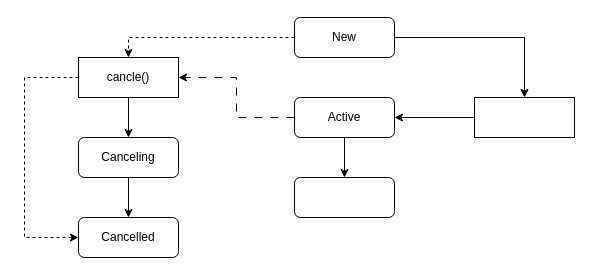
Some shapes in this 592 by 275 pixel diagram are drawn without their labels. The shapes that lost their labels are listed below. From the top down, each one's centre as x and y in pixels, then its label:
(x=524, y=117): start()
(x=344, y=197): Completed
